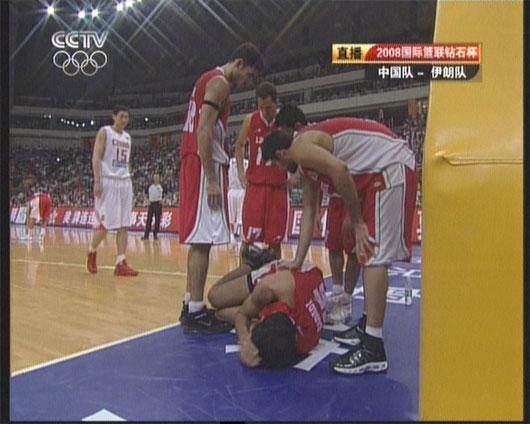bending: (267, 113, 414, 388)
down: (203, 245, 335, 376)
up: (172, 39, 262, 335), (78, 103, 147, 280), (232, 77, 292, 259), (142, 166, 167, 247)
